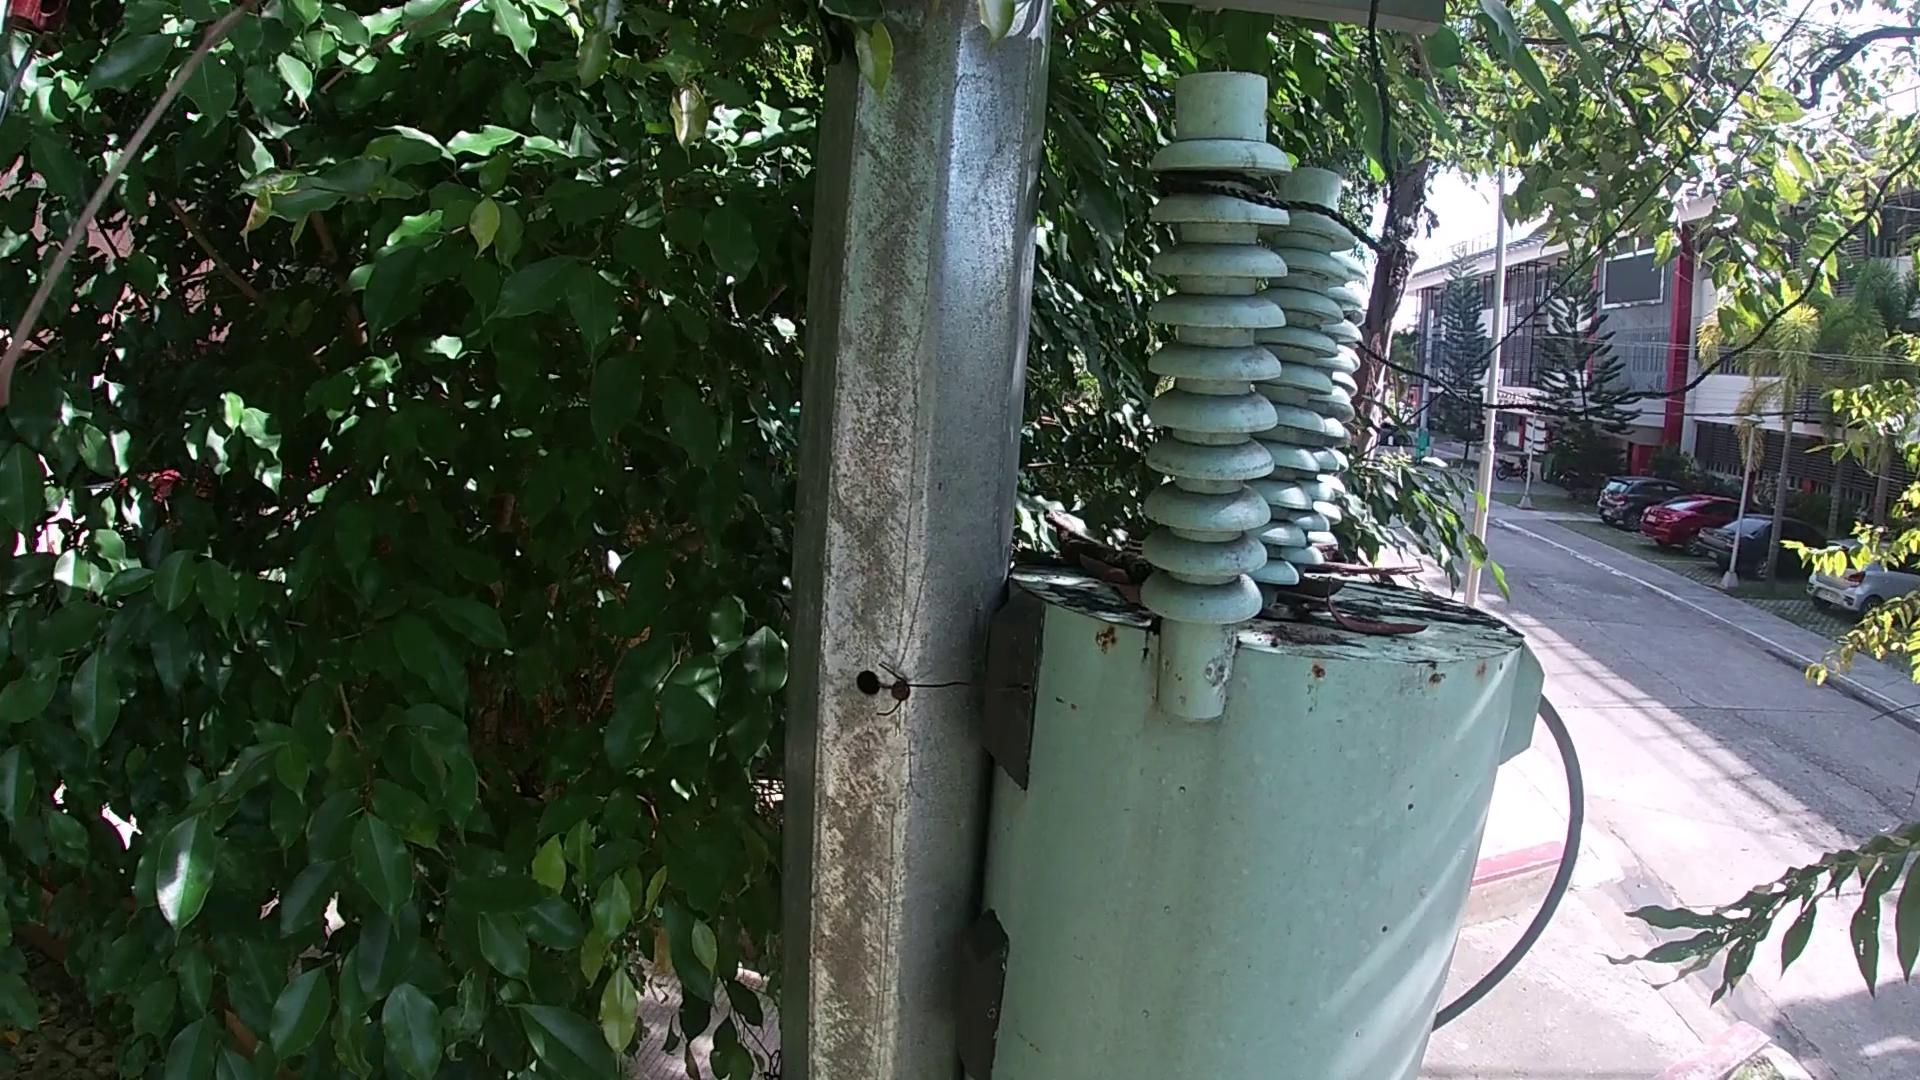leaf: (1113, 580, 1145, 615)
mahogany fruit: (1324, 607, 1429, 633), (1291, 578, 1353, 596)
tree branch: (1039, 531, 1143, 568), (1040, 501, 1131, 543), (1298, 562, 1437, 580)
